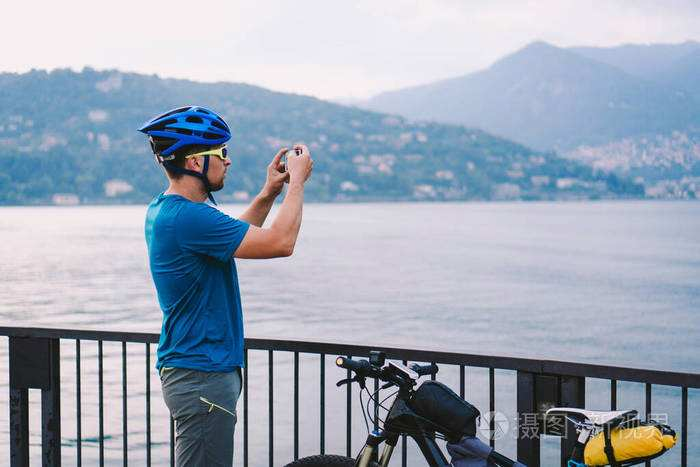taking photos: (262, 139, 316, 191)
